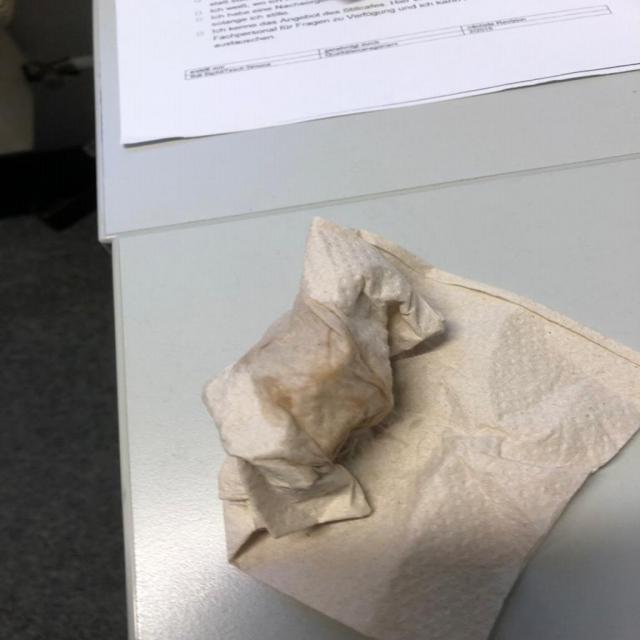kitchen paper: (200, 211, 640, 640)
